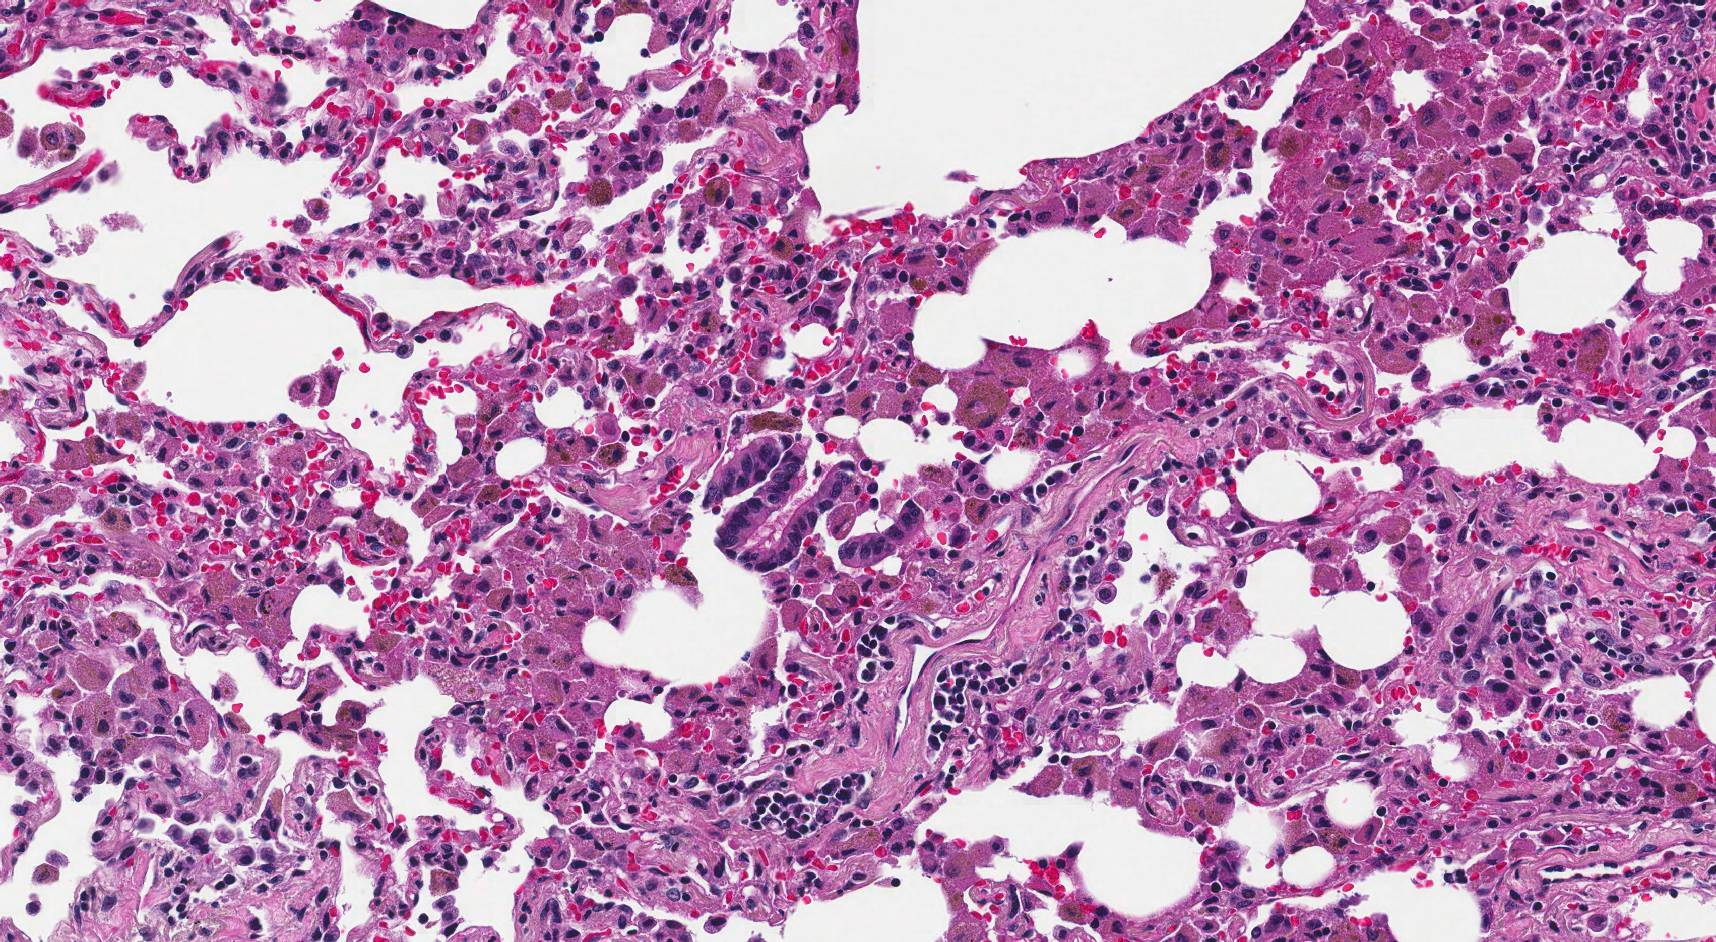stas: (702, 436, 855, 576), (839, 496, 928, 565)
